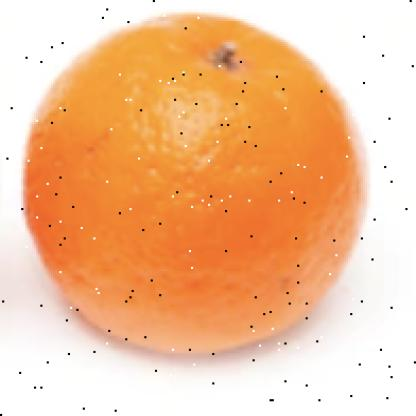fresh: (23, 12, 365, 360)
